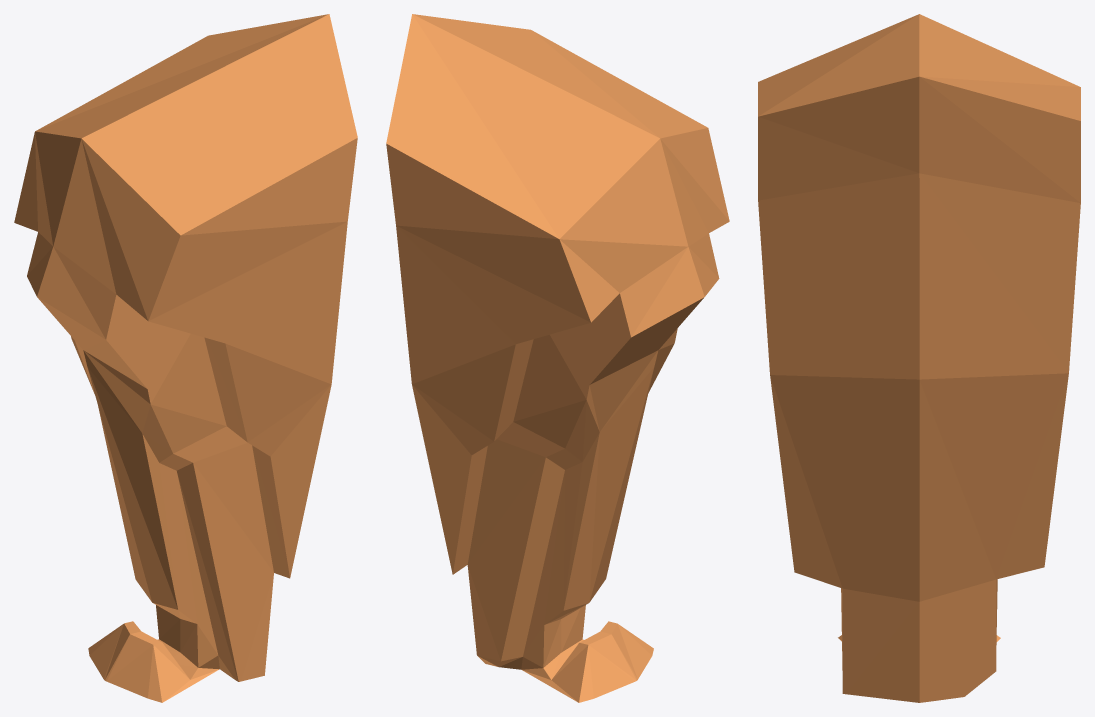
Rendered from Rock_Large_Canyon_Eroded_23.FBX.
The picture shows the model from 3 angles, left to right: view 1: azimuth 30°, elevation 25°; view 2: azimuth 150°, elevation 25°; view 3: azimuth 270°, elevation 25°; orthographic projection. The views are drawn at different scales.
Visible parts, largest first — view 1: Rock_Large_Canyon_Eroded_23; view 2: Rock_Large_Canyon_Eroded_23; view 3: Rock_Large_Canyon_Eroded_23.
Boxes of the visible parts, x1=… form: Rock_Large_Canyon_Eroded_23: x1=14, y1=14, x2=357, y2=702; Rock_Large_Canyon_Eroded_23: x1=386, y1=14, x2=729, y2=702; Rock_Large_Canyon_Eroded_23: x1=758, y1=14, x2=1080, y2=702.
Size of the model in its own units: 5995 by 11982 by 5228.
